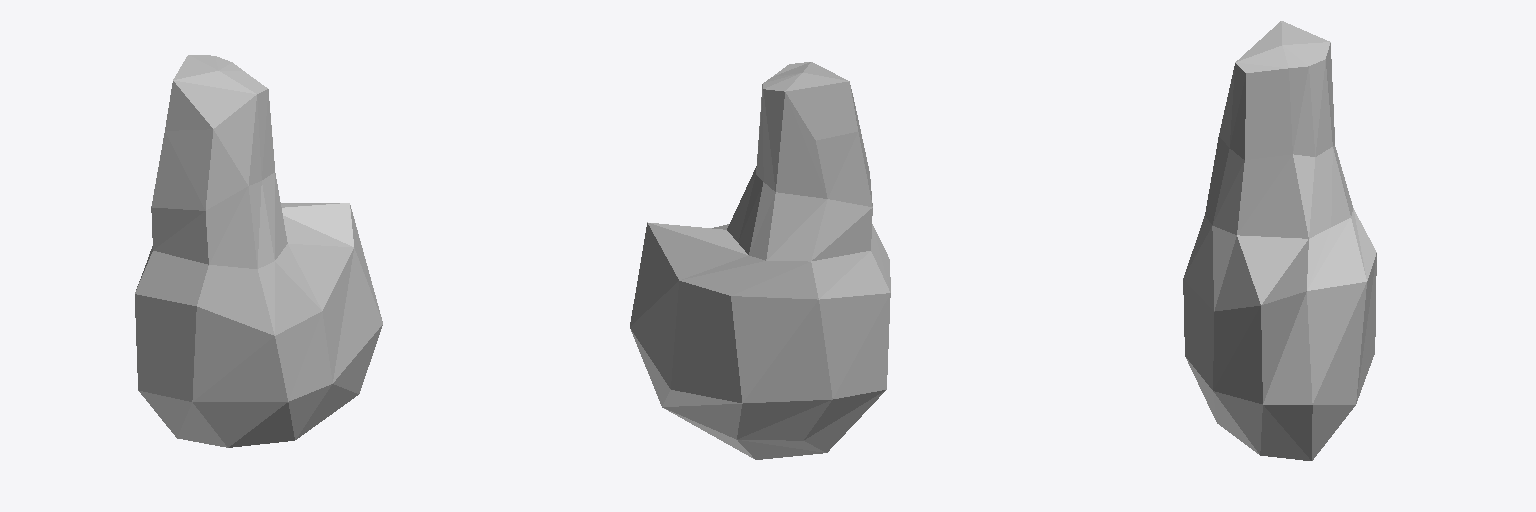
File: model_pillar_0.obj
The picture shows the model from 3 angles: view 1: azimuth 30°, elevation 25°; view 2: azimuth 150°, elevation 25°; view 3: azimuth 270°, elevation 25°; orthographic projection.
Parts seen in each view (by area): view 1: obj_pillar_0; view 2: obj_pillar_0; view 3: obj_pillar_0.
Part boxes in pixels (x1,y1,x2,y2): obj_pillar_0: (135, 55, 382, 447); obj_pillar_0: (630, 62, 890, 459); obj_pillar_0: (1183, 21, 1376, 460).
Size of the model in its own units: 22.58 by 34.52 by 15.52.